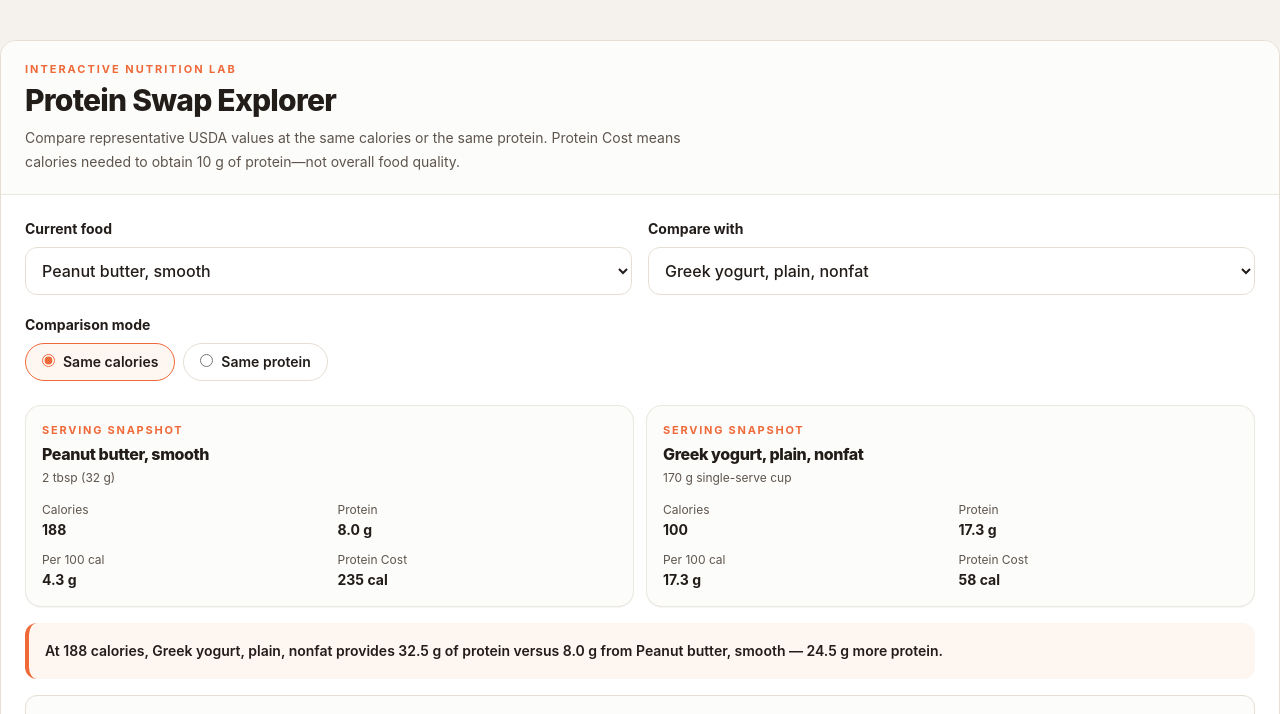
ProteinSwapExplorer › changes the recommended comparison when the current food changes
This screenshot has width=1280, height=714.
Select "Cheddar cheese" in the dropdown labelled "Current food" at {"x": 328, "y": 270}, box [25,246,632,294]
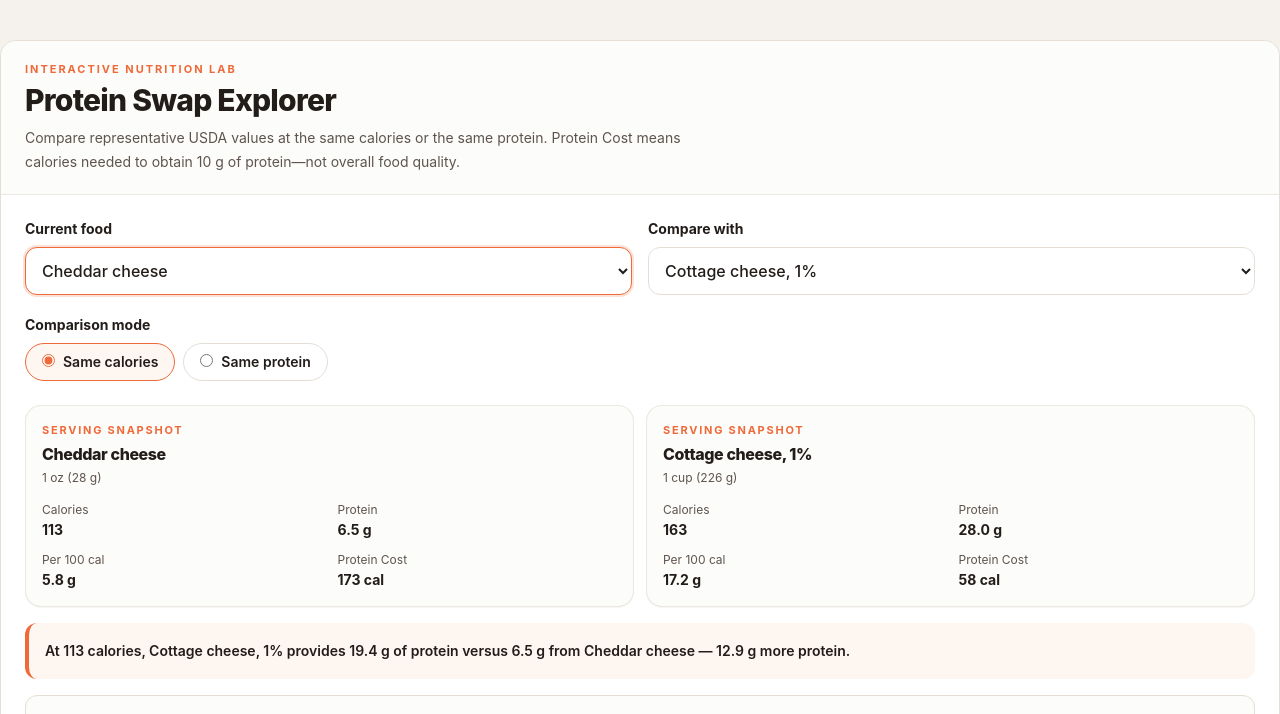
Expected: the dropdown labelled "Compare with" shows "Cottage cheese, 1%", [648,246,1255,294]
